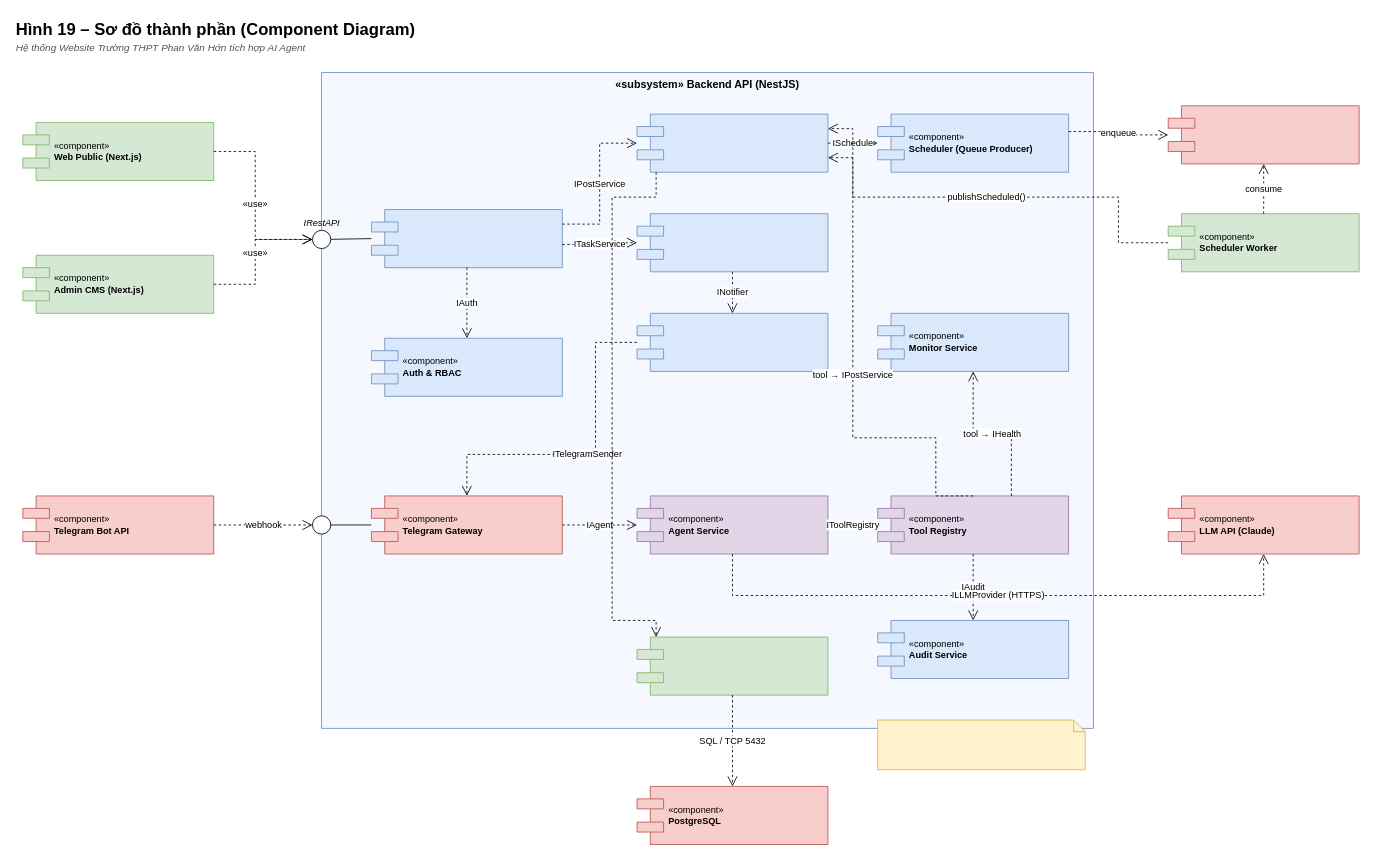
Some shapes in this 1374 by 859 pixel diagram are drawn without their labels. The shapes that lost their labels are listed below. From the top down, each one's centre as x and y in pixels, then its label:
pixel 732 142: «component» Post Service
pixel 1263 134: «component» Redis
pixel 466 238: «component» API Controllers (REST)
pixel 732 242: «component» Task Service
pixel 732 341: «component» Notification Service
pixel 321 524: IWebhook
pixel 732 665: «component» Data Access (Prisma)
pixel 981 744: Các Service đều truy cập dữ liệu qua Data Access (Prisma) (lược bớt mũi tên).
